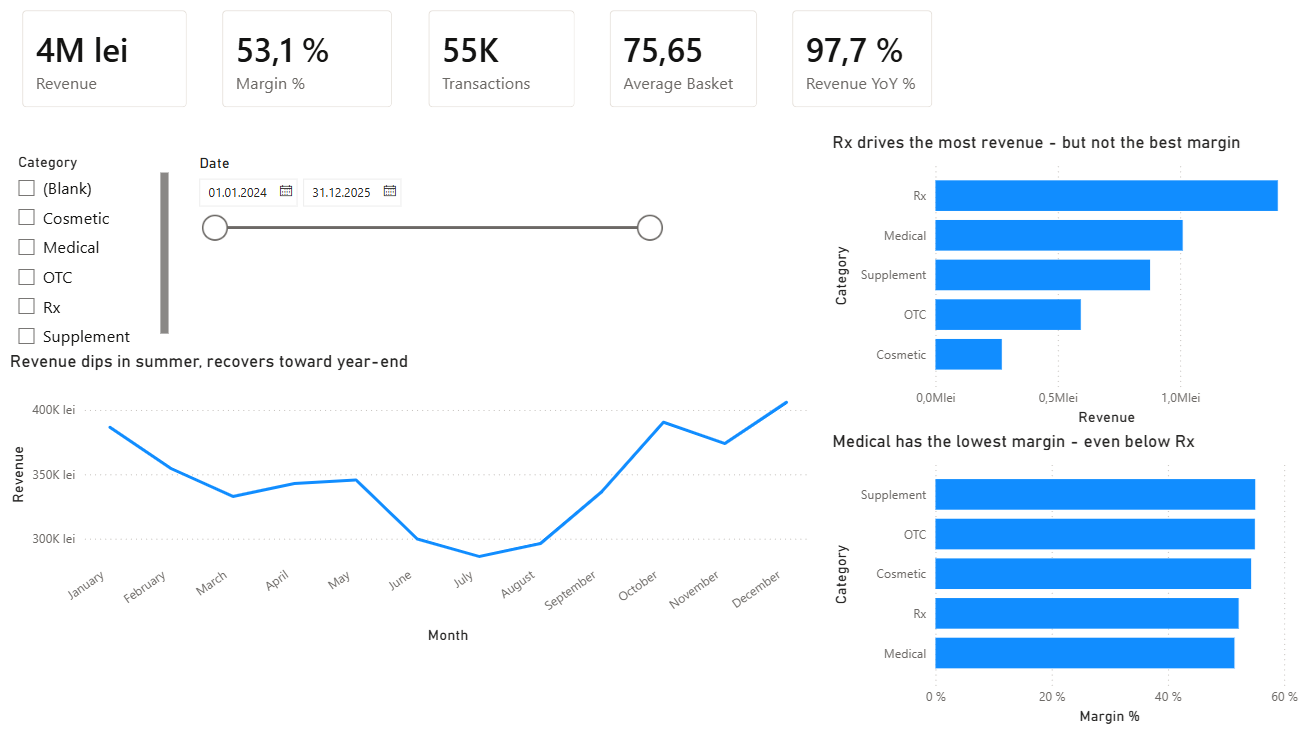

Layout of this report page (visuals, bound fields, positions):
{"tool":"powerbi","page":{"name":"Revenue trending","canvas":[1280,720],"ordinal":0},"visuals":[{"type":"cardVisual","fields":{"Data":["FactSales.Revenue"]},"box":[10,0,196,152],"z":0},{"type":"cardVisual","fields":{"Data":["FactSales.Margin %"]},"box":[206,0,200,152],"z":1000},{"type":"cardVisual","fields":{"Data":["FactSales.Transactions"]},"box":[390,0,178,152],"z":2000},{"type":"cardVisual","fields":{"Data":["FactSales.Average Basket"]},"box":[567.5,0,178.8,152.5],"z":3000},{"type":"lineChart","title":"Revenue dips in summer, recovers toward year-end","fields":{"Category":["DimDate.Date.Variation.Date Hierarchy.Year","DimDate.Date.Variation.Date Hierarchy.Quarter","DimDate.Date.Variation.Date Hierarchy.Month","DimDate.Date.Variation.Date Hierarchy.Day"],"Y":["FactSales.Revenue"]},"box":[10,350,793.8,291.2],"z":4000},{"type":"barChart","title":"Rx drives the most revenue - but not the best margin","fields":{"Category":["DimProduct.Category"],"Y":["FactSales.Revenue"]},"box":[814.4,22,465.9,292.3],"z":5000},{"type":"barChart","title":"Medical has the lowest margin - even below Rx","fields":{"Category":["DimProduct.Category"],"Y":["FactSales.Margin %"]},"box":[814,350,466,292],"z":6000},{"type":"slicer","fields":{"Values":["DimProduct.Category"]},"box":[10,151.2,165,198.8],"z":7000},{"type":"slicer","fields":{"Values":["DimDate.Date"]},"box":[187.5,152.5,475,198.8],"z":8000}]}

Visuals, with their boxes in screenshot pixels (x1, y1, x2, y2), scaled from the page's 1280x720 canvas onto the 1303x729 screenshot:
cardVisual - FactSales.Revenue: Rect(10, 0, 210, 154)
cardVisual - FactSales.Margin %: Rect(210, 0, 413, 154)
cardVisual - FactSales.Transactions: Rect(397, 0, 578, 154)
cardVisual - FactSales.Average Basket: Rect(578, 0, 760, 154)
"Revenue dips in summer, recovers toward year-end" lineChart: Rect(10, 354, 818, 649)
"Rx drives the most revenue - but not the best margin" barChart: Rect(829, 22, 1302, 318)
"Medical has the lowest margin - even below Rx" barChart: Rect(829, 354, 1302, 650)
slicer - DimProduct.Category: Rect(10, 153, 178, 354)
slicer - DimDate.Date: Rect(191, 154, 674, 356)
